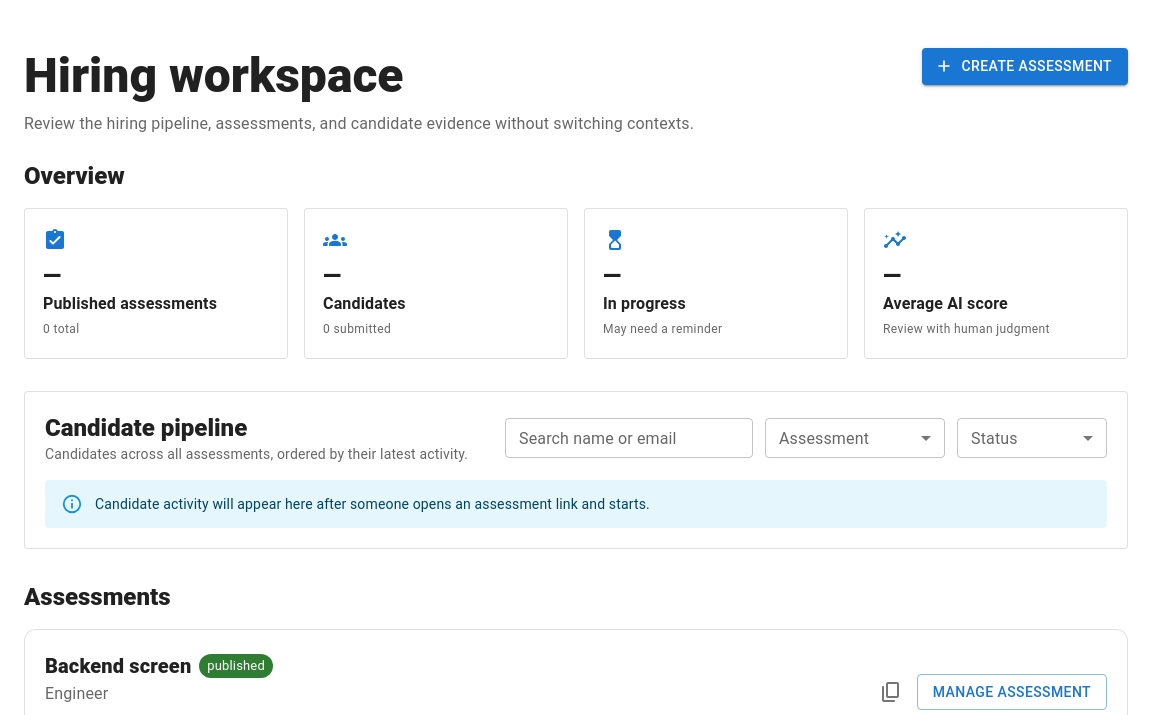
Test case: assessment workspace hierarchy › shows existing assessments before keeping creation controls on demand
Expected: the heading "Backend screen" is shown, left=45, top=650, right=191, bottom=682
What coordinates should you click on to do the following:
click the button "Create assessment"
I would click on:
 (1025, 66)
Its box is left=922, top=48, right=1128, bottom=84.
(page scrolled)
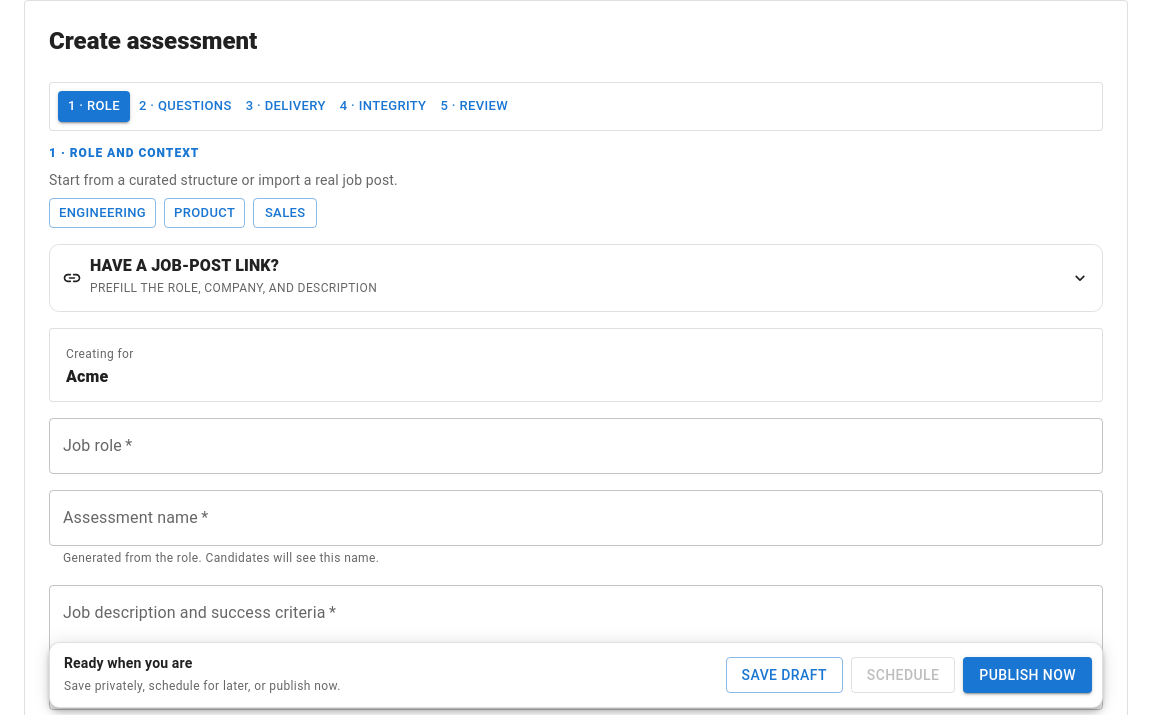
Expected: the heading "Create assessment" is shown, left=49, top=27, right=257, bottom=55
Expected: the heading "Candidate pipeline" is gone
